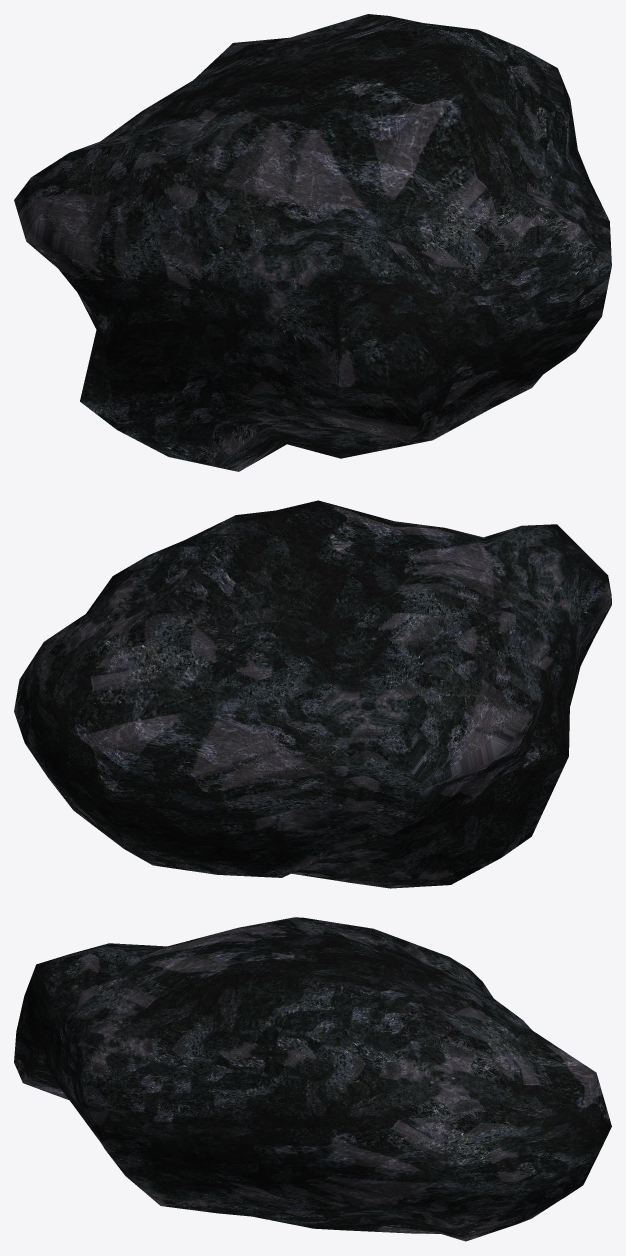
The model's file is asteroid_obsidian_small_s01_l0.fbx.
3 views of the same model, one above another, from view 1: azimuth 30°, elevation 25°; view 2: azimuth 150°, elevation 25°; view 3: azimuth 270°, elevation 25° (orthographic). The views are drawn at different scales.
Visible parts, largest first — view 1: mesh_node; view 2: mesh_node; view 3: mesh_node.
Boxes of the visible parts, box(x1,y1,x2,y2) form: mesh_node: box(14, 14, 611, 471); mesh_node: box(14, 500, 611, 888); mesh_node: box(14, 917, 611, 1241).
Bounding box in the file's own units: 29.27 × 19.83 × 34.66.
